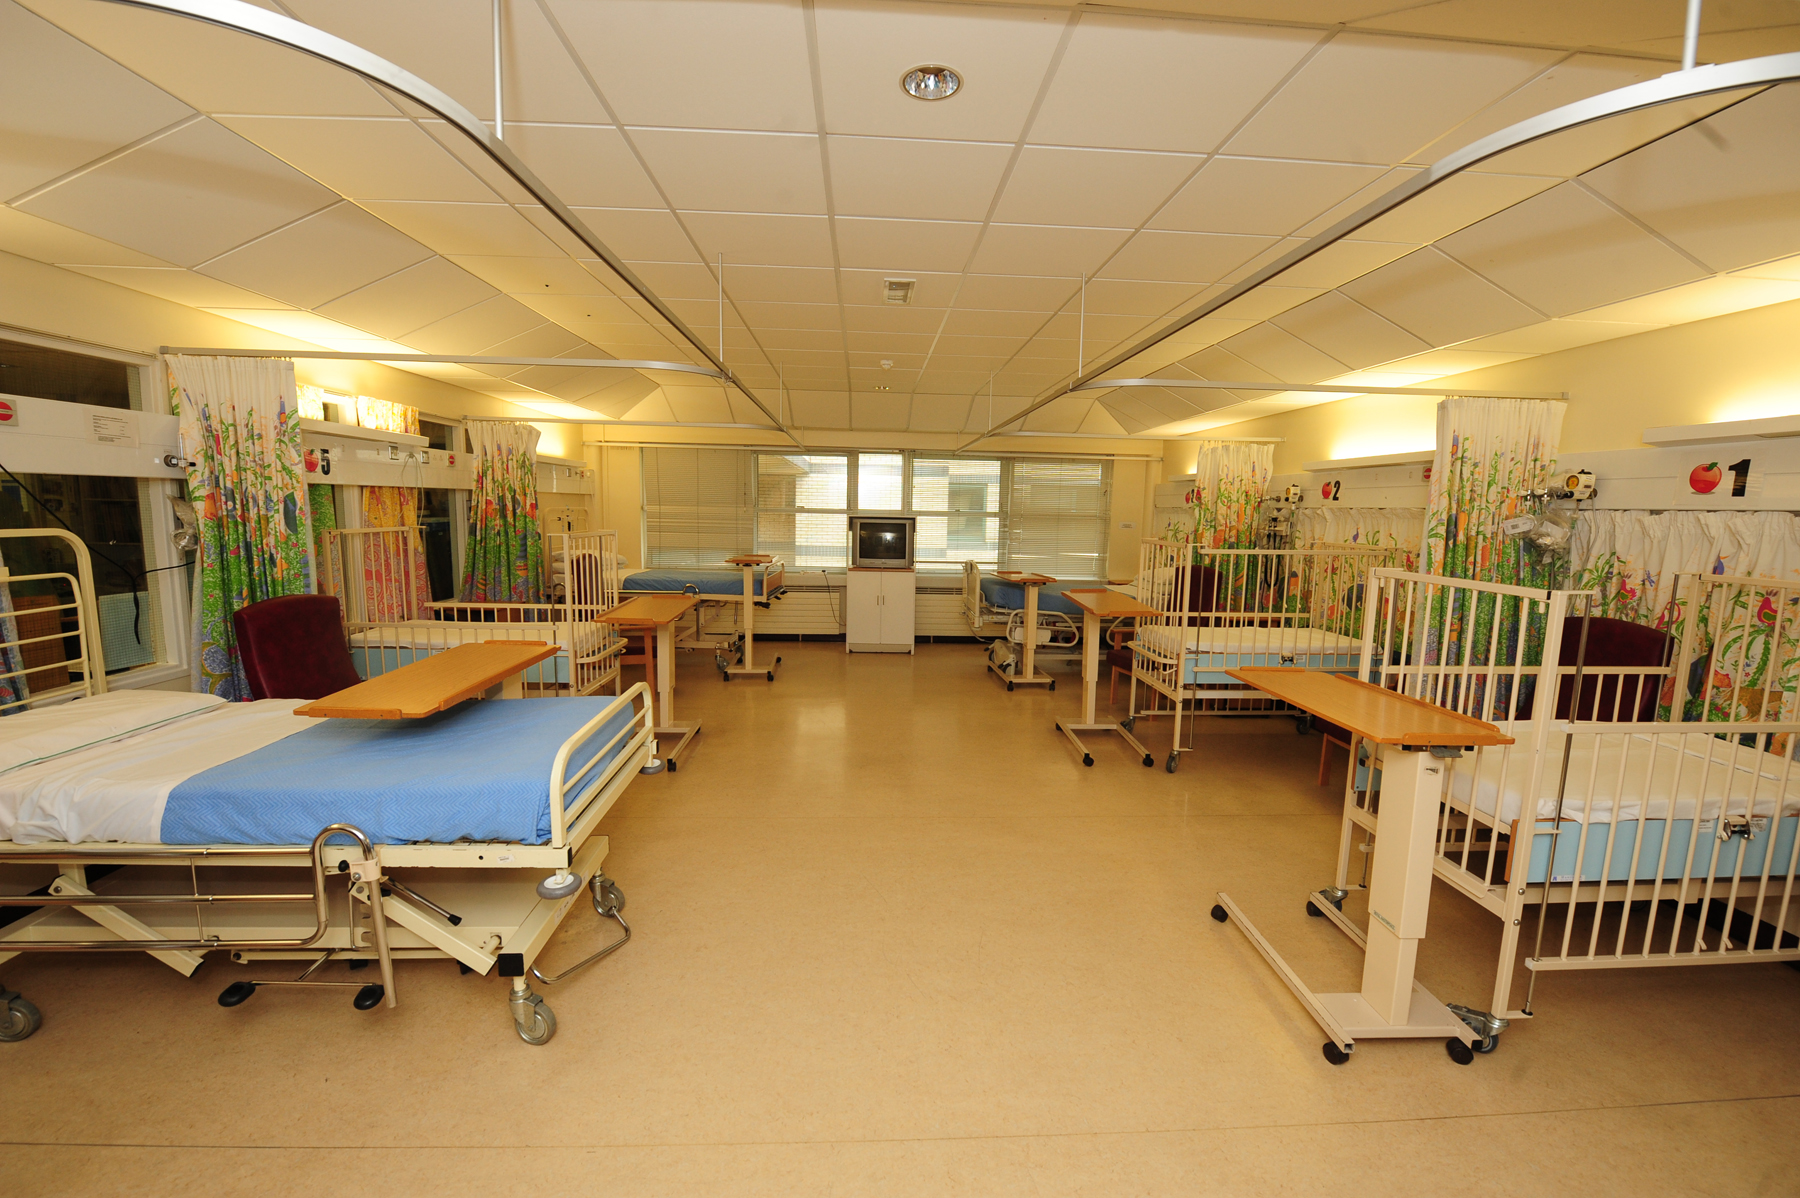bedside table: (1214, 646, 1526, 767), (320, 626, 539, 721), (603, 586, 698, 632)
hospital bed: (17, 661, 667, 919)
